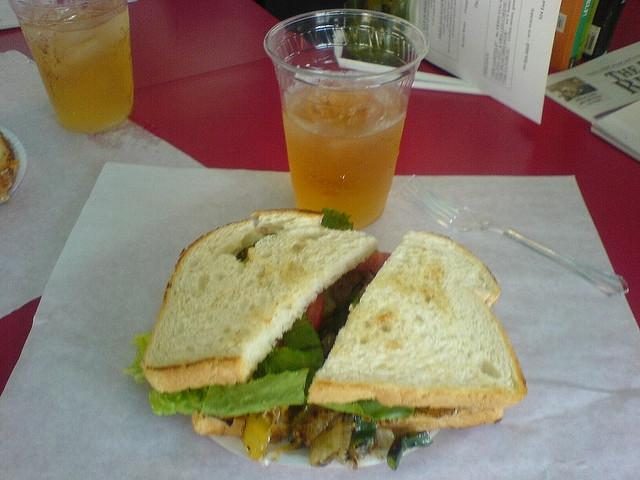lettuce: (201, 368, 310, 419), (252, 344, 324, 402), (314, 400, 414, 419), (322, 207, 354, 230)
